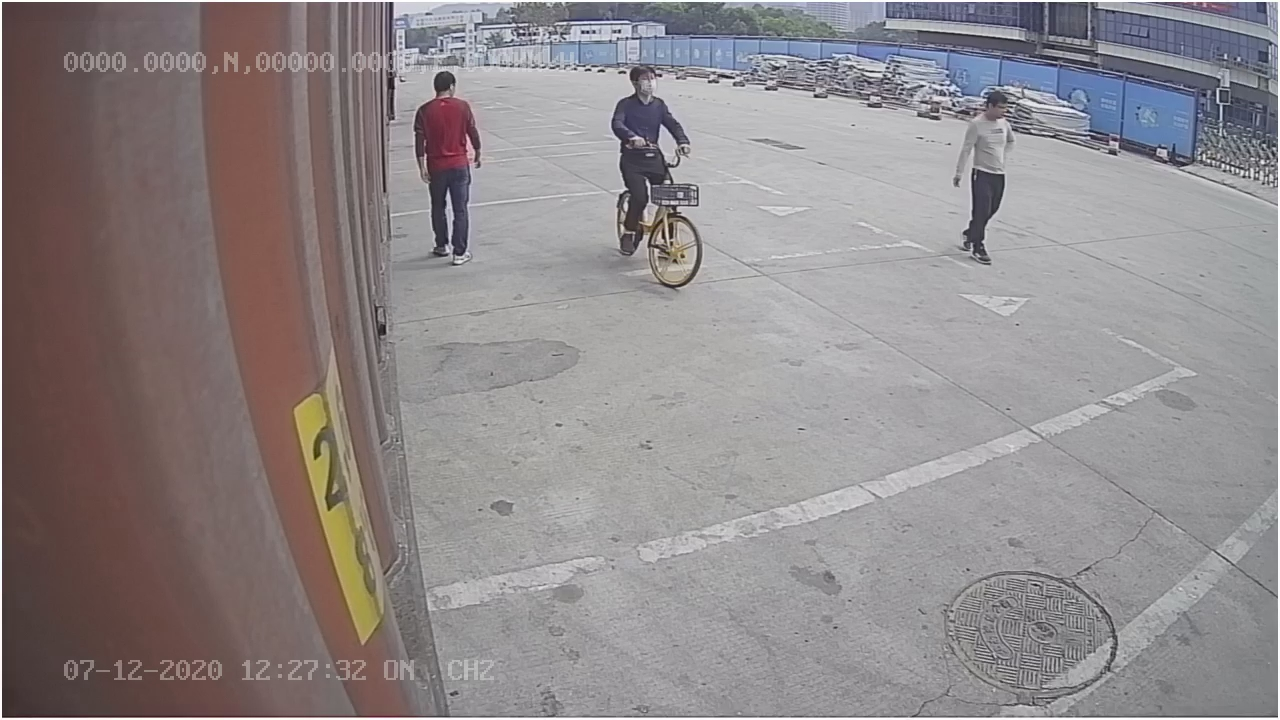person: (409, 67, 490, 271)
